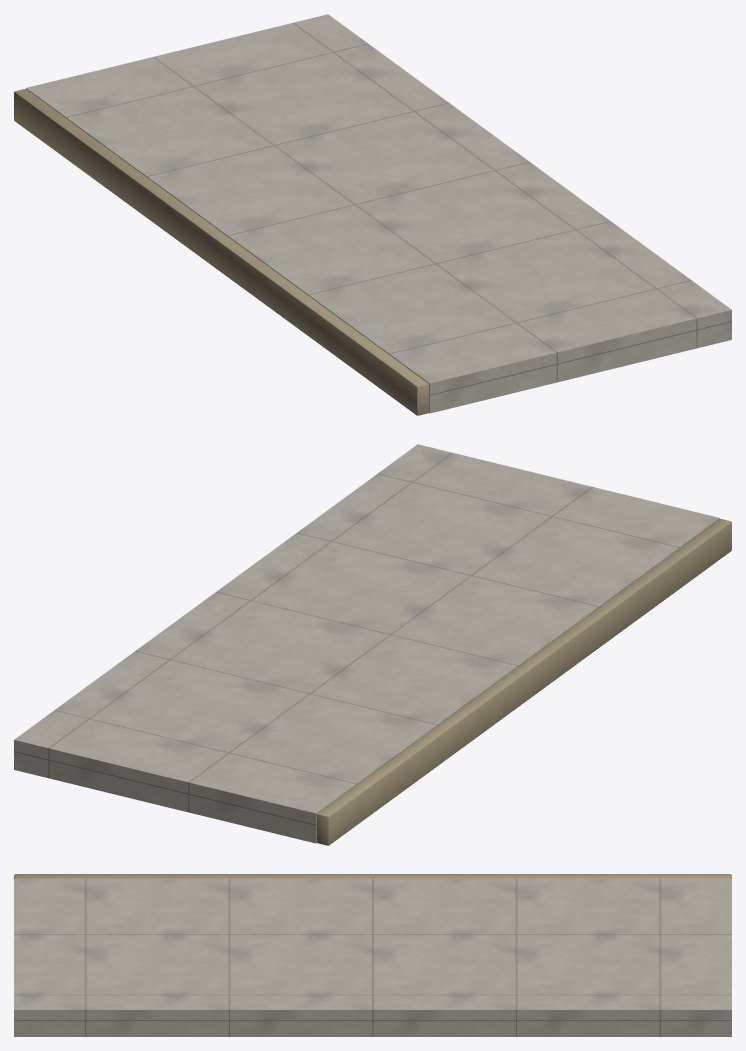
File: sidewalk_straight.glb
3 renders of one model, top to bottom at view 1: azimuth 30°, elevation 25°; view 2: azimuth 150°, elevation 25°; view 3: azimuth 270°, elevation 25°, orthographic. The views are drawn at different scales.
Visible parts, largest first — view 1: body; view 2: body; view 3: body.
Boxes of the visible parts, x1=… form: body: x1=14, y1=14, x2=731, y2=415; body: x1=14, y1=444, x2=731, y2=845; body: x1=14, y1=874, x2=731, y2=1036.
Bounding box in the file's own units: 4.5 × 0.41 × 10.
Materials: 2 (2 with a texture image).
